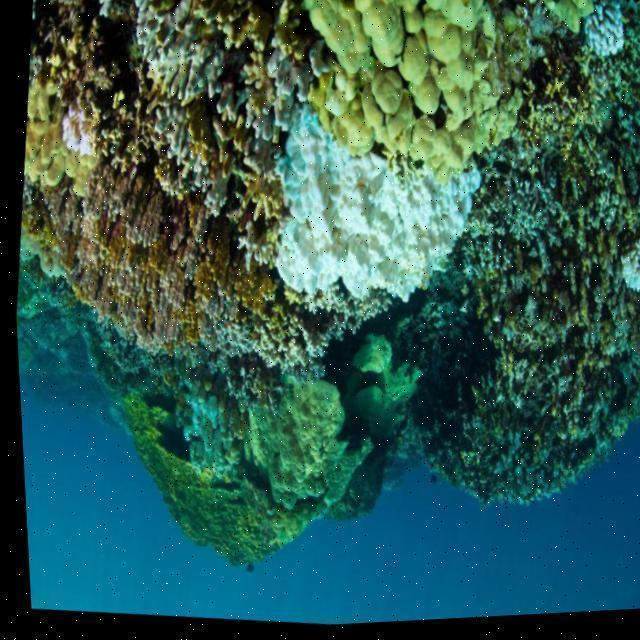Bleached Coral: (252, 119, 495, 319), (561, 0, 637, 65), (600, 239, 640, 313)
Healthy Coral: (105, 344, 387, 571), (310, 0, 527, 169)
